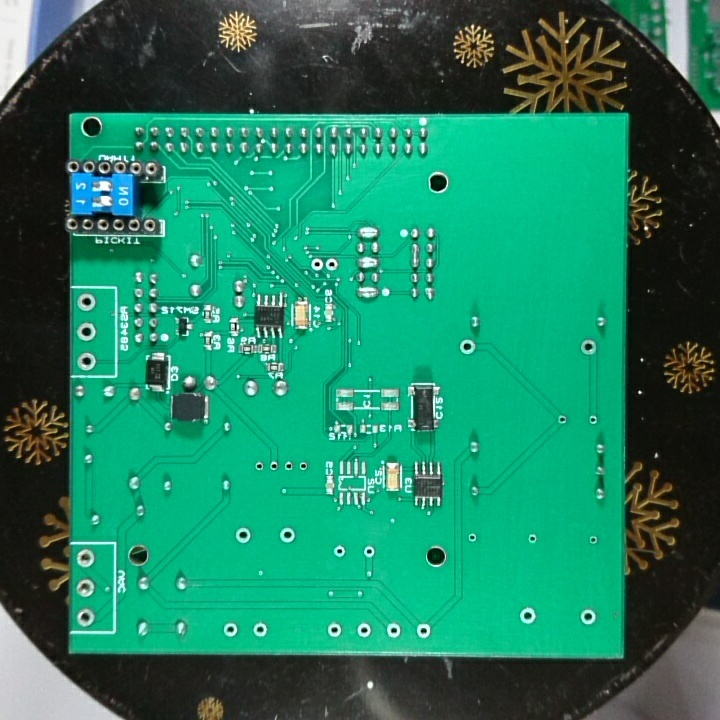F: (75, 320, 100, 345), (577, 605, 600, 629), (74, 576, 97, 600), (74, 291, 98, 314), (517, 603, 539, 627), (75, 349, 97, 372), (75, 548, 97, 570), (577, 336, 598, 358), (76, 605, 98, 626), (232, 525, 254, 546), (220, 618, 240, 641), (457, 336, 477, 357), (354, 619, 374, 640), (250, 619, 270, 640), (277, 524, 298, 544), (325, 618, 344, 640), (384, 619, 402, 642), (413, 620, 433, 640), (359, 541, 378, 560), (323, 255, 341, 275), (554, 410, 570, 429), (280, 456, 296, 475), (585, 411, 601, 429), (331, 542, 347, 560), (308, 255, 324, 272), (524, 530, 539, 548), (296, 458, 311, 476), (266, 456, 279, 476), (252, 457, 265, 476), (586, 532, 600, 549), (465, 529, 478, 546)
P: (355, 223, 382, 242), (353, 284, 380, 302), (354, 254, 382, 271), (408, 240, 422, 270)
